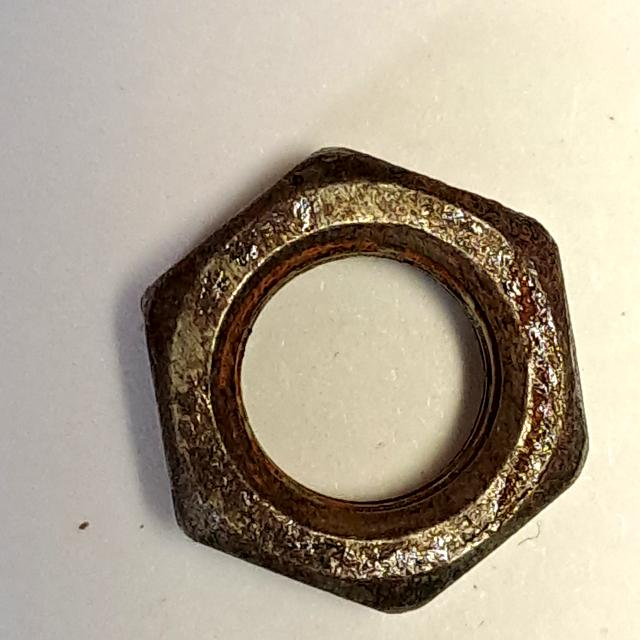Rust: (134, 137, 595, 625)
